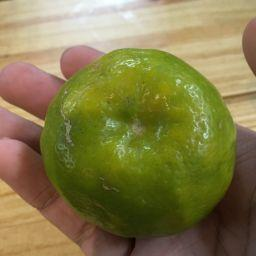Unripe: (43, 52, 231, 230)
